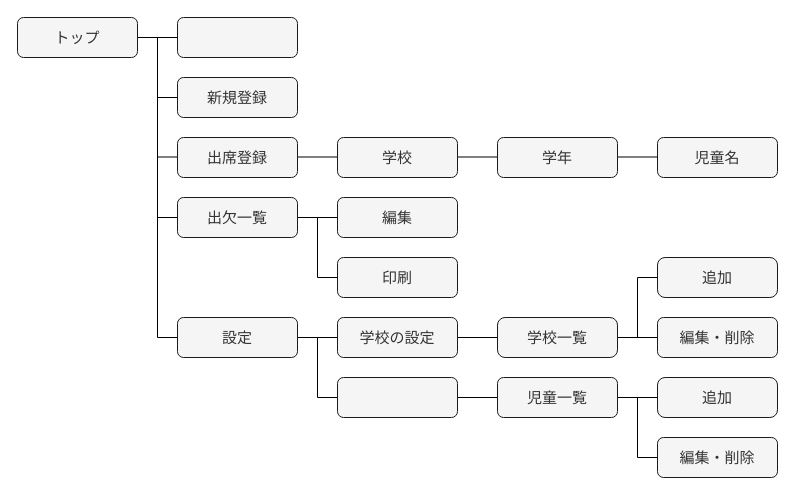
Some shapes in this 795 by 495 pixel diagram are drawn without their labels. Here are the shapes that lost their labels. From the top down, the centre of each, then its label:
At point (237, 37): "ログイン".
At point (397, 397): "児童の設定".
